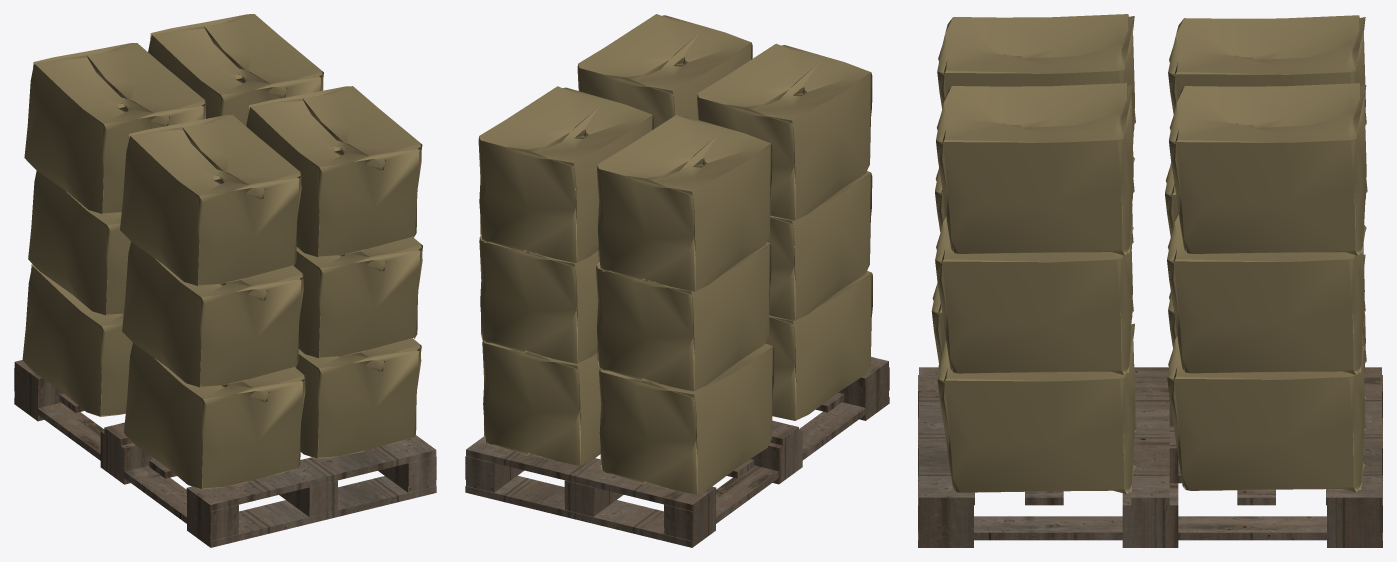
The model's file is pallet_cartons.glb.
The picture shows the model from 3 angles, left to right: view 1: azimuth 30°, elevation 25°; view 2: azimuth 150°, elevation 25°; view 3: azimuth 270°, elevation 25°; orthographic projection. The views are drawn at different scales.
Visible parts, largest first — view 1: pallet_cartons; view 2: pallet_cartons; view 3: pallet_cartons.
Boxes of the visible parts, x1,y1,x2,y2 form: pallet_cartons: (14,14,436,547); pallet_cartons: (465,14,889,547); pallet_cartons: (918,14,1382,547).
Bounding box in the file's own units: 0.8117 × 1.17 × 1.2.
2 materials, 2 textured.
